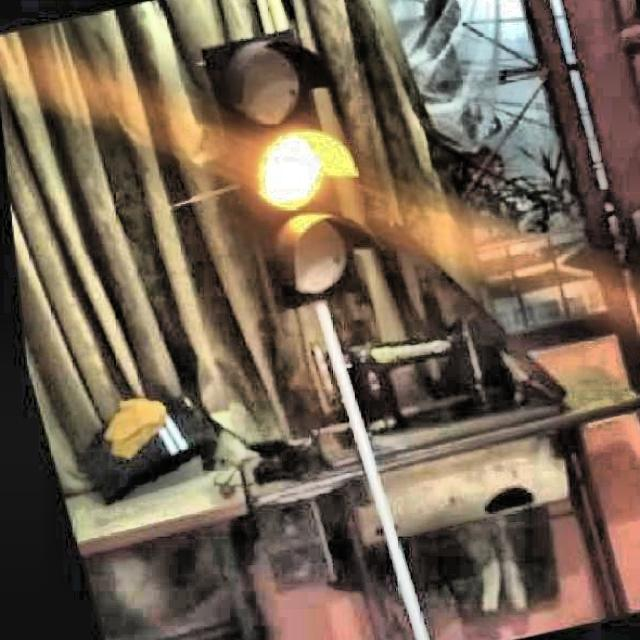yellow: (197, 21, 382, 308)
